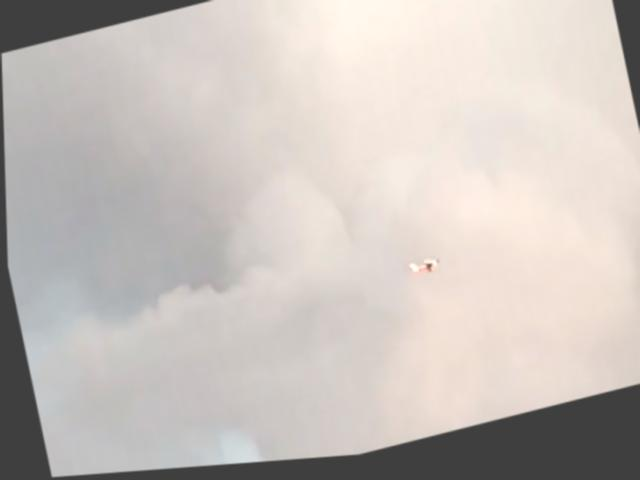plane: (405, 259, 440, 283)
